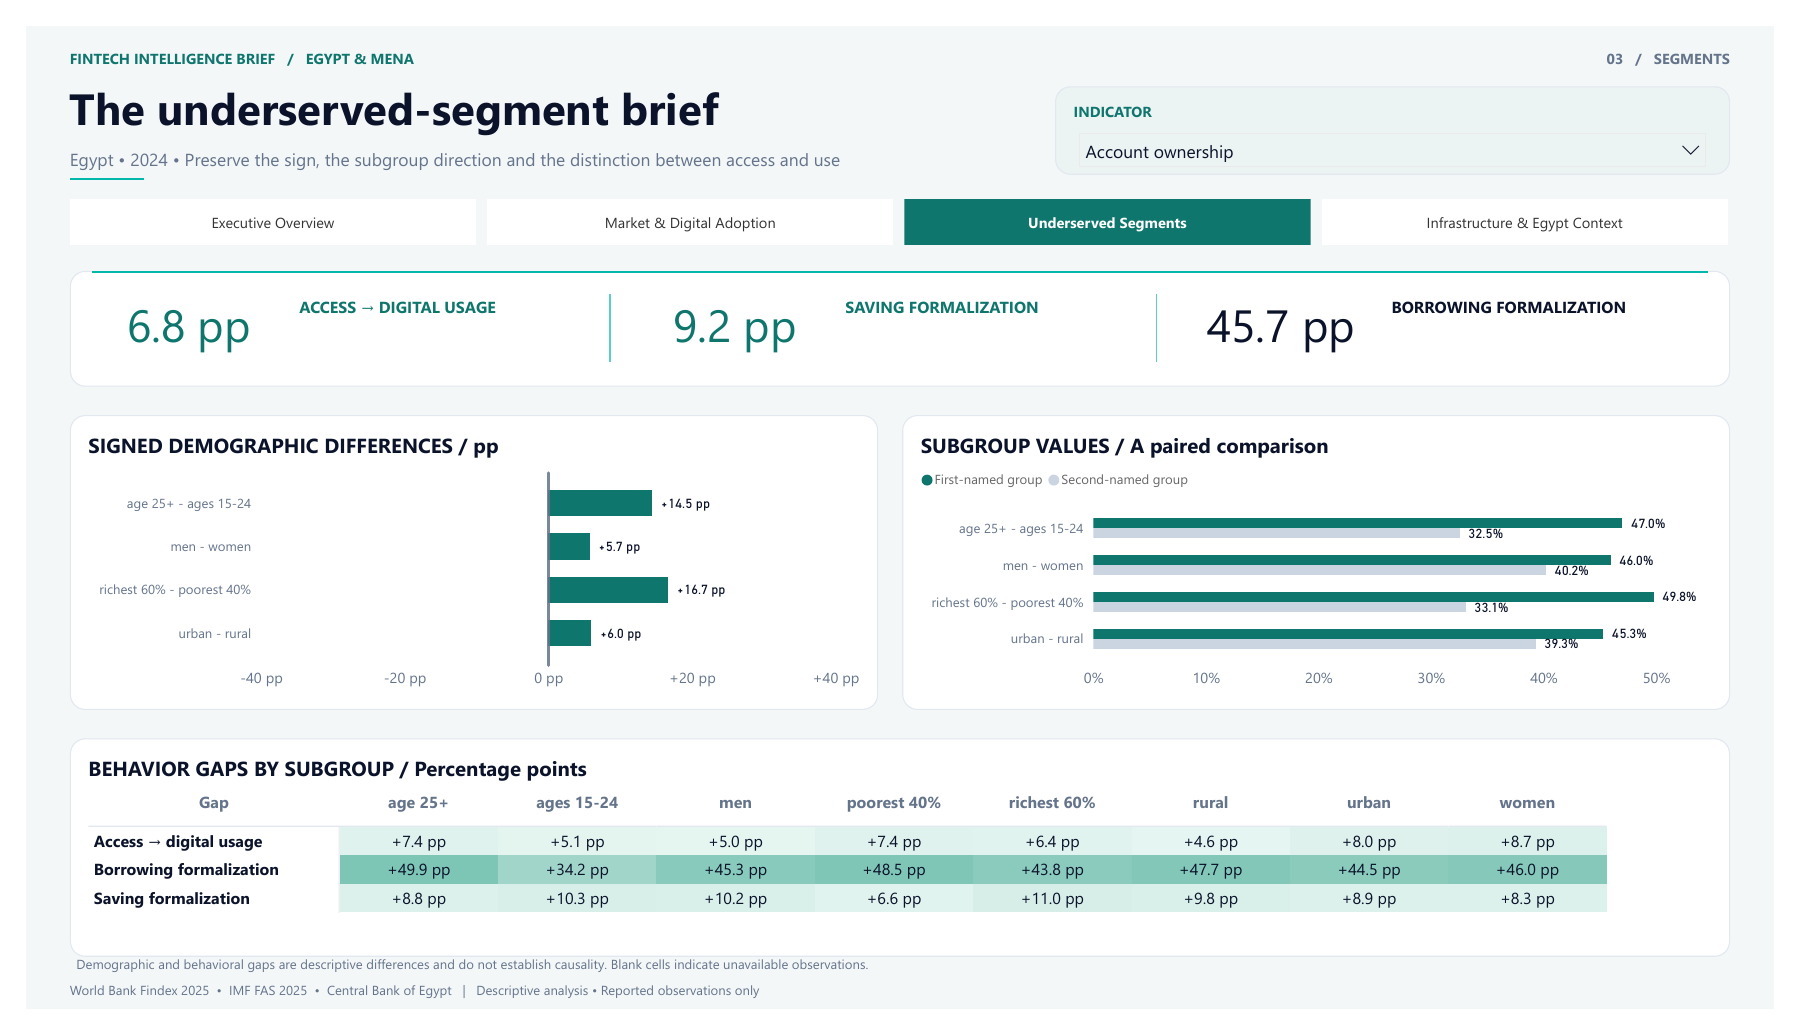

The dashboard page shown, as its layout file describes it:
{"tool":"powerbi","page":{"name":"Underserved Segments","canvas":[1600,900],"ordinal":2},"visuals":[{"type":"textbox","box":[40,20,970,26],"z":48},{"type":"textbox","box":[1260,20,300,26],"z":49},{"type":"textbox","box":[40,48,850,60],"z":50},{"type":"textbox","box":[40,111,850,30],"z":51},{"type":"shape","box":[40,139,68,2],"z":52},{"type":"pageNavigator","box":[40,158,1520,42],"z":53},{"type":"textbox","box":[40,872,1450,24],"z":54},{"type":"slicer","title":"INDICATOR","fields":{"Values":["Demographic Gaps.Indicator"]},"box":[942,55,618,81],"z":55},{"type":"textbox","box":[40,224,1520,106],"z":56},{"type":"shape","box":[60,224,1480,2],"z":57},{"type":"card","fields":{"Values":["KPI Measures.Access to Digital Usage Gap"]},"box":[60,239,178,67],"z":58},{"type":"textbox","box":[250,247,280,43],"z":59},{"type":"shape","box":[534,245,1,62],"z":60},{"type":"card","fields":{"Values":["KPI Measures.Saving Formalization Gap"]},"box":[560,239,178,67],"z":61},{"type":"textbox","box":[750,247,280,43],"z":62},{"type":"shape","box":[1034,245,1,62],"z":63},{"type":"card","fields":{"Values":["KPI Measures.Borrowing Formalization Gap"]},"box":[1060,239,178,67],"z":64},{"type":"textbox","box":[1250,247,280,43],"z":65},{"type":"clusteredBarChart","title":"SIGNED DEMOGRAPHIC DIFFERENCES  /  pp","fields":{"Category":["Demographic Gaps.comparison"],"Y":["KPI Measures.Demographic Difference"]},"box":[40,356,740,270],"z":66},{"type":"clusteredBarChart","title":"SUBGROUP VALUES  /  A paired comparison","fields":{"Category":["Demographic Gaps.comparison"],"Y":["KPI Measures.First Subgroup","KPI Measures.Second Subgroup"]},"box":[802,356,758,270],"z":67},{"type":"pivotTable","title":"BEHAVIOR GAPS BY SUBGROUP  /  Percentage points","fields":{"Columns":["Behavior Gaps.demographic_subgroup"],"Rows":["Behavior Gaps.Gap"],"Values":["KPI Measures.Behavior Difference"]},"box":[40,652,1520,200],"z":68},{"type":"textbox","box":[46,849,1500,23],"z":69}]}

Visuals, with their boxes in screenshot pixels (x1, y1, x2, y2), scaled from the page's 1600x900 canvas onto the 1800x1036 screenshot:
textbox: box(45, 23, 1136, 53)
textbox: box(1418, 23, 1755, 53)
textbox: box(45, 55, 1001, 124)
textbox: box(45, 128, 1001, 162)
shape: box(45, 160, 122, 162)
pageNavigator: box(45, 182, 1755, 230)
textbox: box(45, 1004, 1676, 1031)
"INDICATOR" slicer: box(1060, 63, 1755, 157)
textbox: box(45, 258, 1755, 380)
shape: box(68, 258, 1732, 260)
card - KPI Measures.Access to Digital Usage Gap: box(68, 275, 268, 352)
textbox: box(281, 284, 596, 334)
shape: box(601, 282, 602, 353)
card - KPI Measures.Saving Formalization Gap: box(630, 275, 830, 352)
textbox: box(844, 284, 1159, 334)
shape: box(1163, 282, 1164, 353)
card - KPI Measures.Borrowing Formalization Gap: box(1192, 275, 1393, 352)
textbox: box(1406, 284, 1721, 334)
"SIGNED DEMOGRAPHIC DIFFERENCES  /  pp" clusteredBarChart: box(45, 410, 878, 721)
"SUBGROUP VALUES  /  A paired comparison" clusteredBarChart: box(902, 410, 1755, 721)
"BEHAVIOR GAPS BY SUBGROUP  /  Percentage points" pivotTable: box(45, 751, 1755, 981)
textbox: box(52, 977, 1739, 1004)
